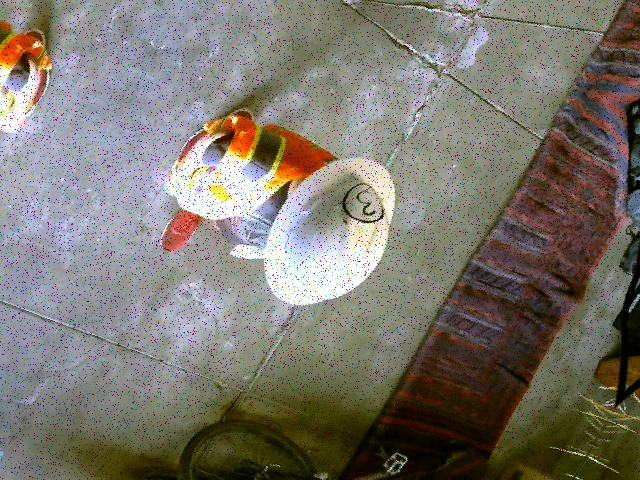three: (335, 179, 393, 226)
